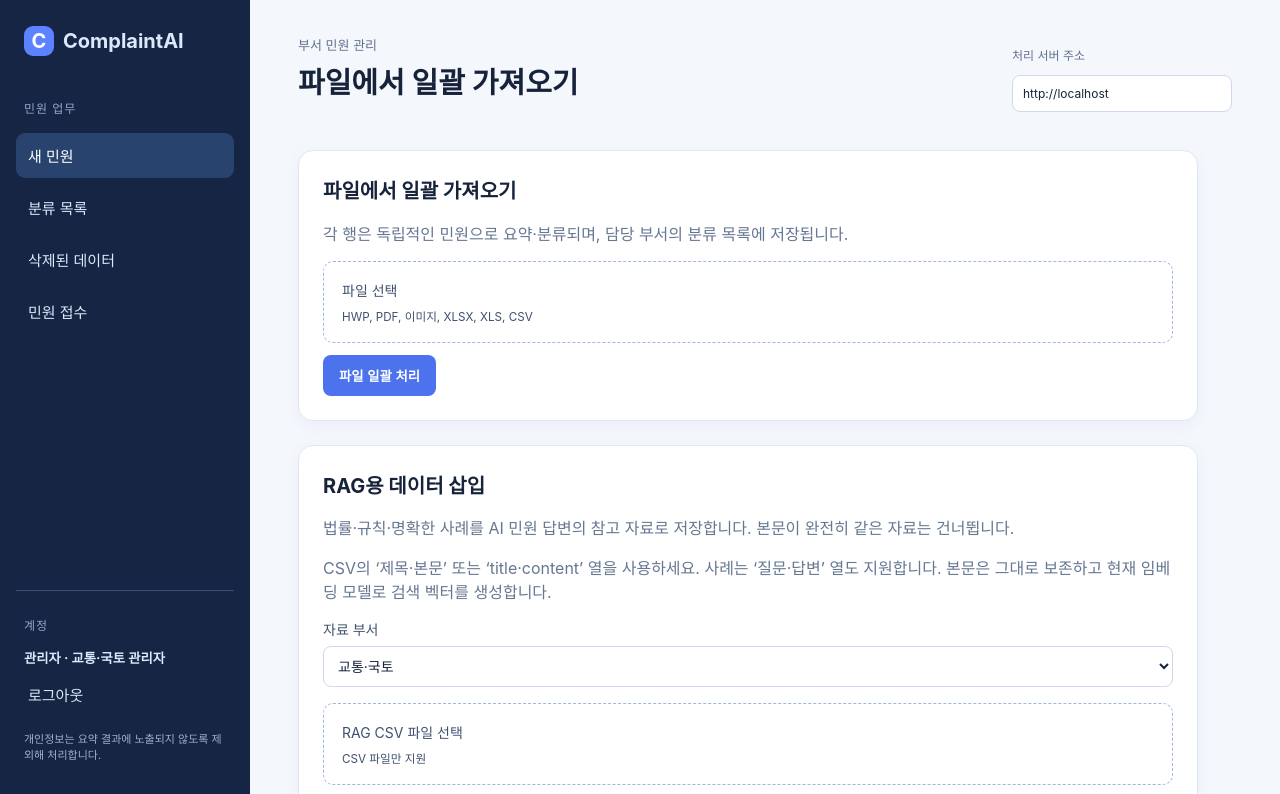
부서 민원 전체 삭제 › works when the selected source filter displays zero rows
Click the button "분류 목록". click: x=125, y=208
box: [16, 185, 234, 230]
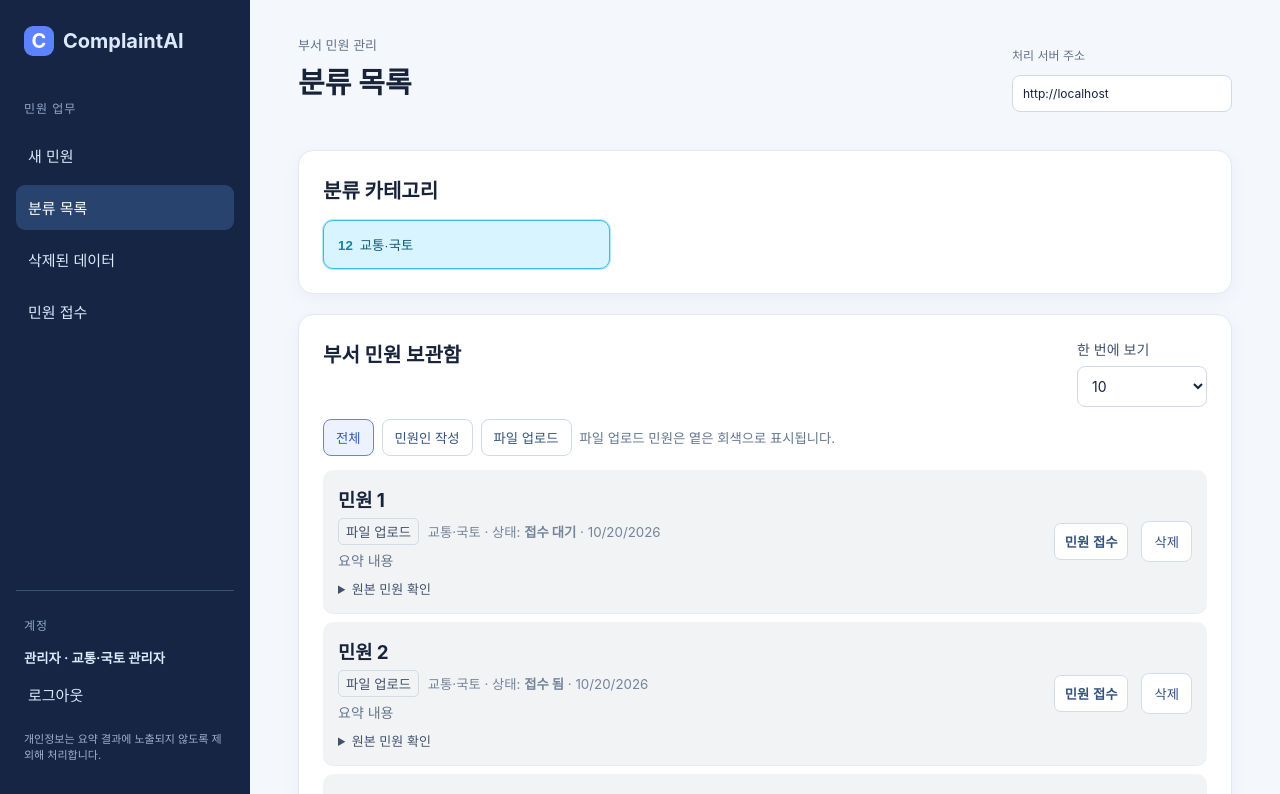
Now the button "12교통·국토" is shown, box [323, 220, 610, 269]
Click the button "민원인 작성". click: x=427, y=438
box: [382, 419, 472, 456]
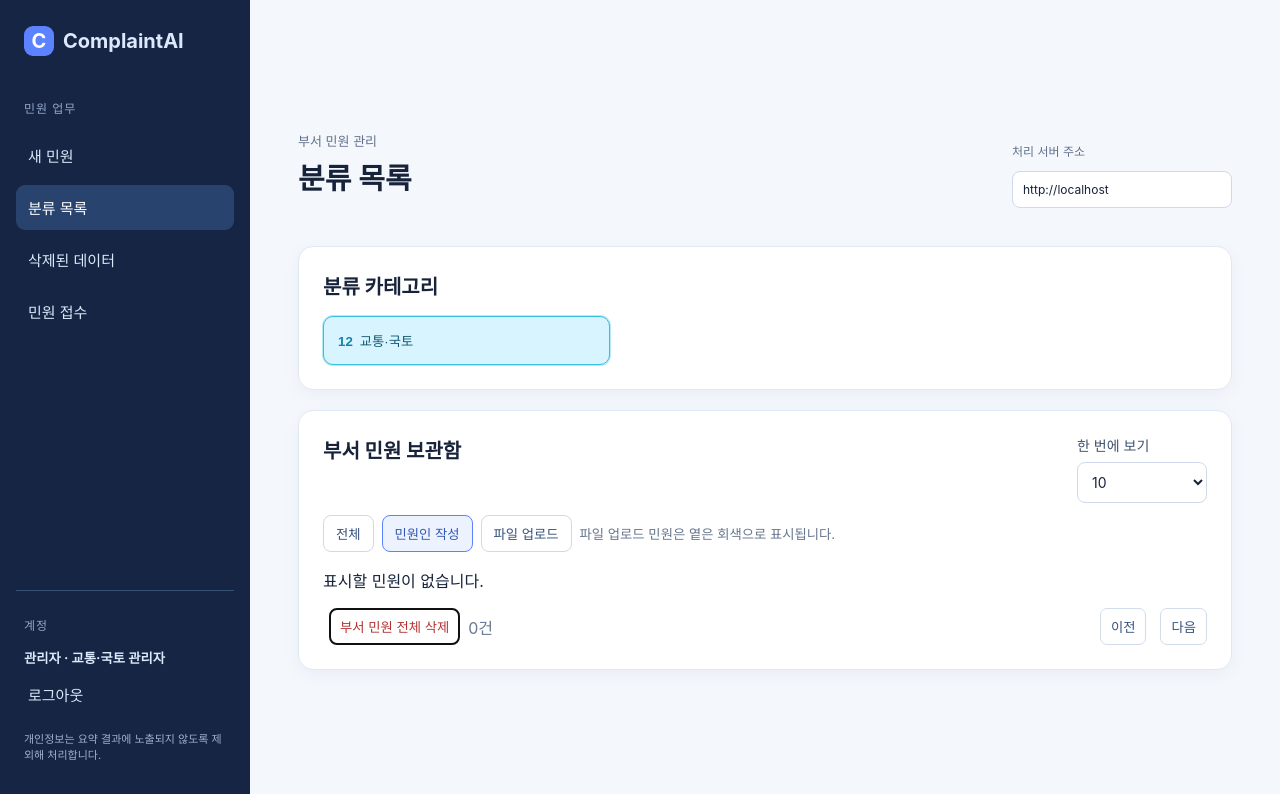
Now the button "부서 민원 전체 삭제" is enabled
Now the text "표시할 민원이 없습니다." is shown, box [323, 571, 484, 591]
Click the button "부서 민원 전체 삭제". click: x=395, y=626
box: [329, 608, 460, 645]
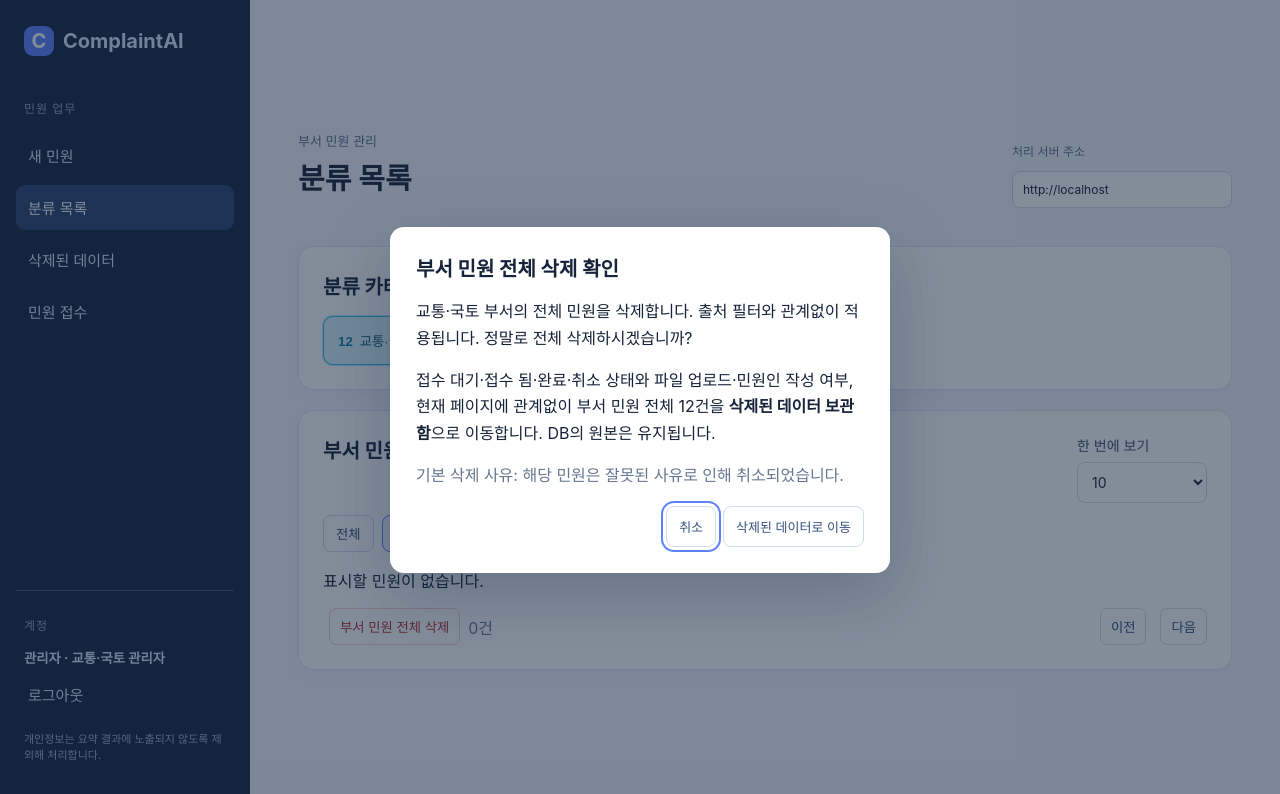
Click the button "삭제된 데이터로 이동". click: x=794, y=527
box: [723, 506, 864, 548]
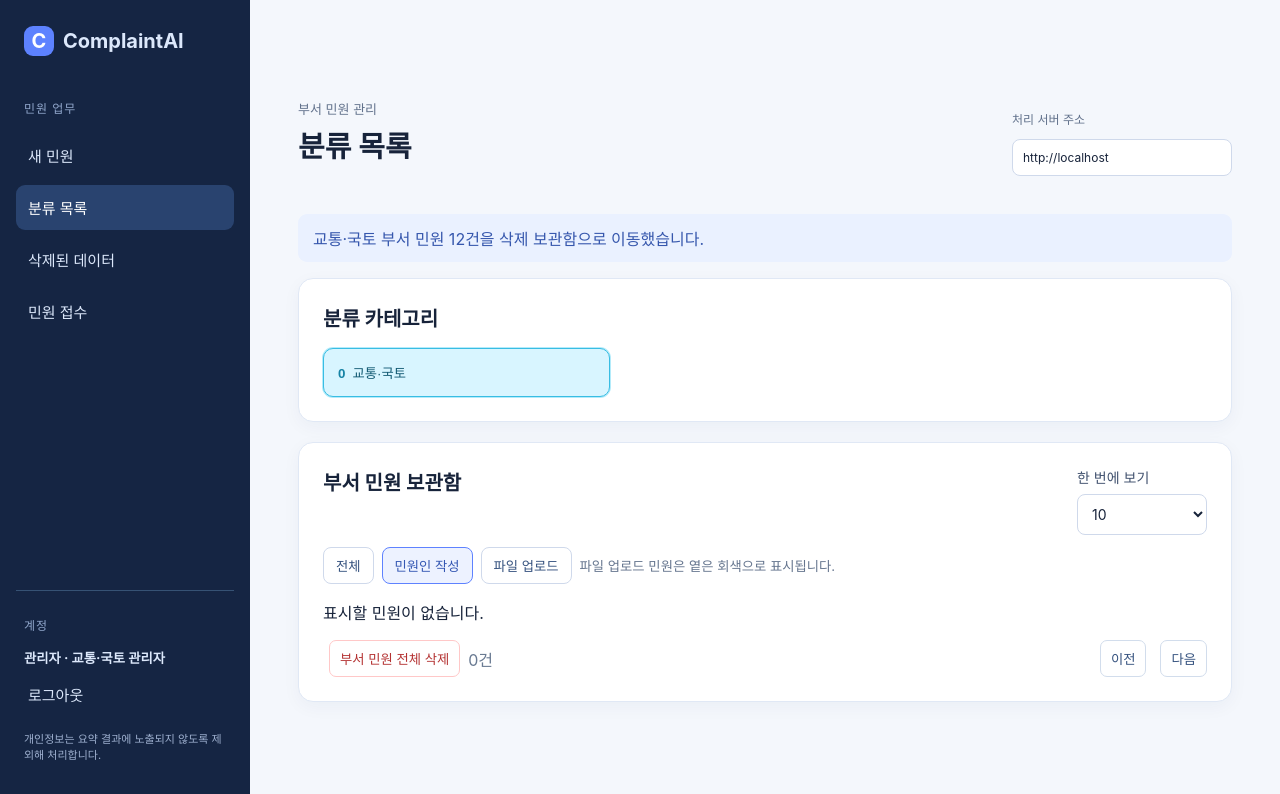
Now the text "교통·국토 부서 민원 12건을 삭제 보관함으로 이동했습니다." is shown, box [298, 214, 1232, 262]
